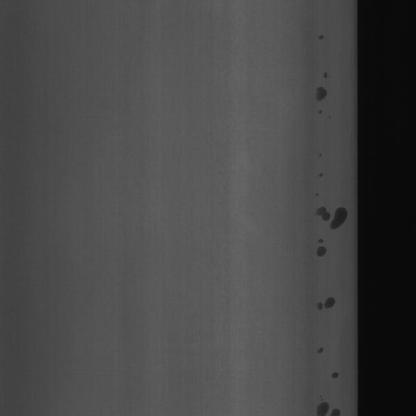oil_spot: (315, 30, 334, 131), (314, 192, 353, 235), (314, 291, 337, 326), (312, 386, 337, 416), (312, 238, 334, 259), (314, 348, 330, 366)
